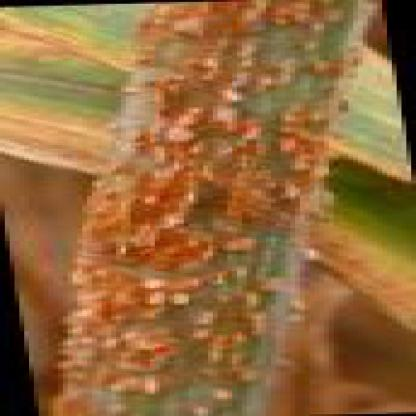wheat Stem Rust: (69, 312, 191, 415), (138, 70, 325, 137), (146, 3, 339, 65), (94, 184, 310, 239), (74, 246, 227, 305), (112, 146, 299, 176), (208, 319, 268, 411), (244, 268, 292, 304)
